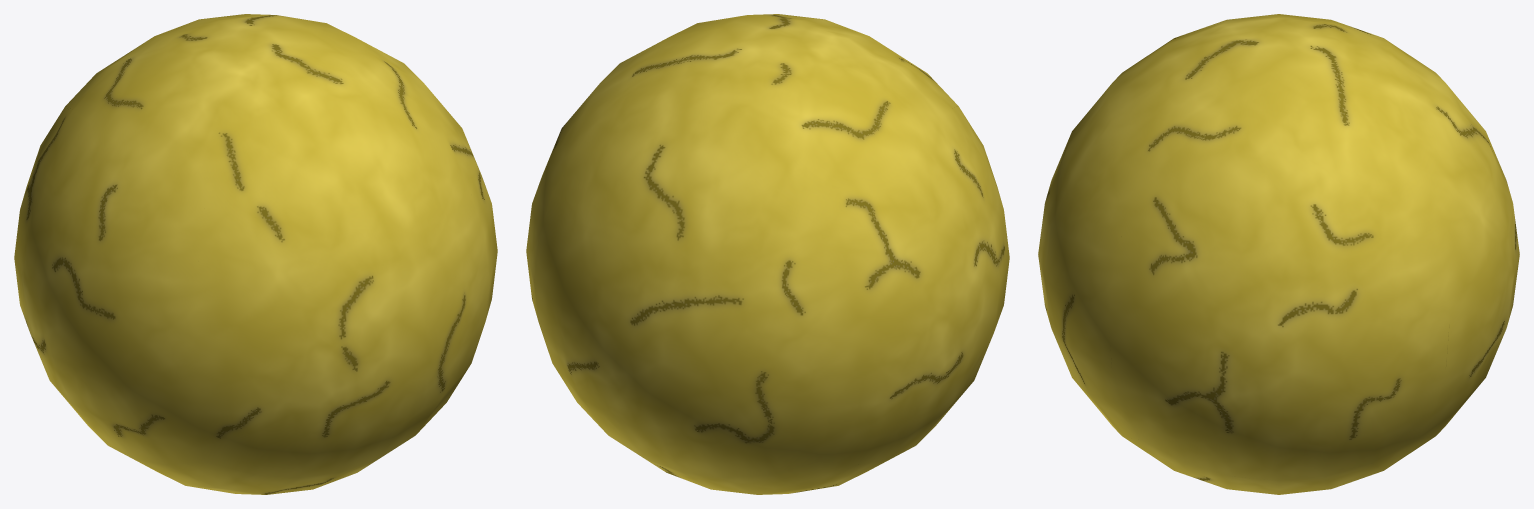
Rendered from STAFILOKOK (1).fbx.
3 renders of one model, left to right at view 1: azimuth 30°, elevation 25°; view 2: azimuth 150°, elevation 25°; view 3: azimuth 270°, elevation 25°, orthographic.
Visible parts, largest first — view 1: Roundcube; view 2: Roundcube; view 3: Roundcube.
Part boxes in pixels (x1,y1,x2,y2): Roundcube: (14,14,497,494); Roundcube: (526,14,1009,494); Roundcube: (1038,14,1519,494).
Size of the model in its own units: 276 by 276 by 276.
Materials: 1 (1 with a texture image).
